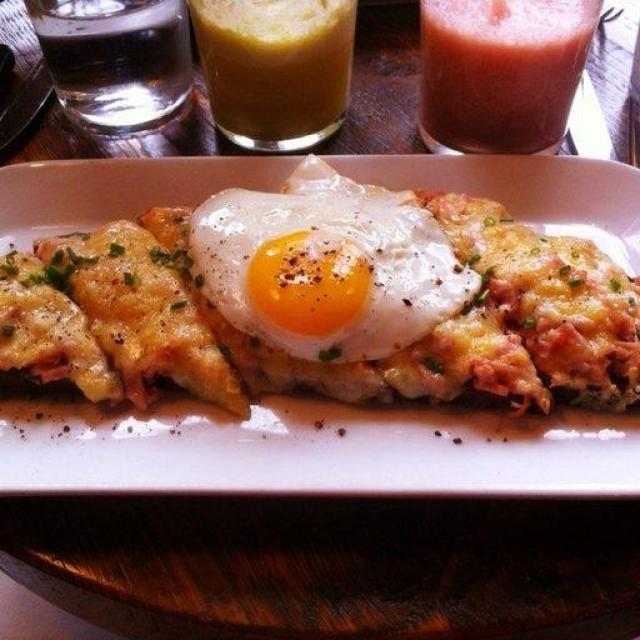food_waste: (3, 172, 640, 391)
